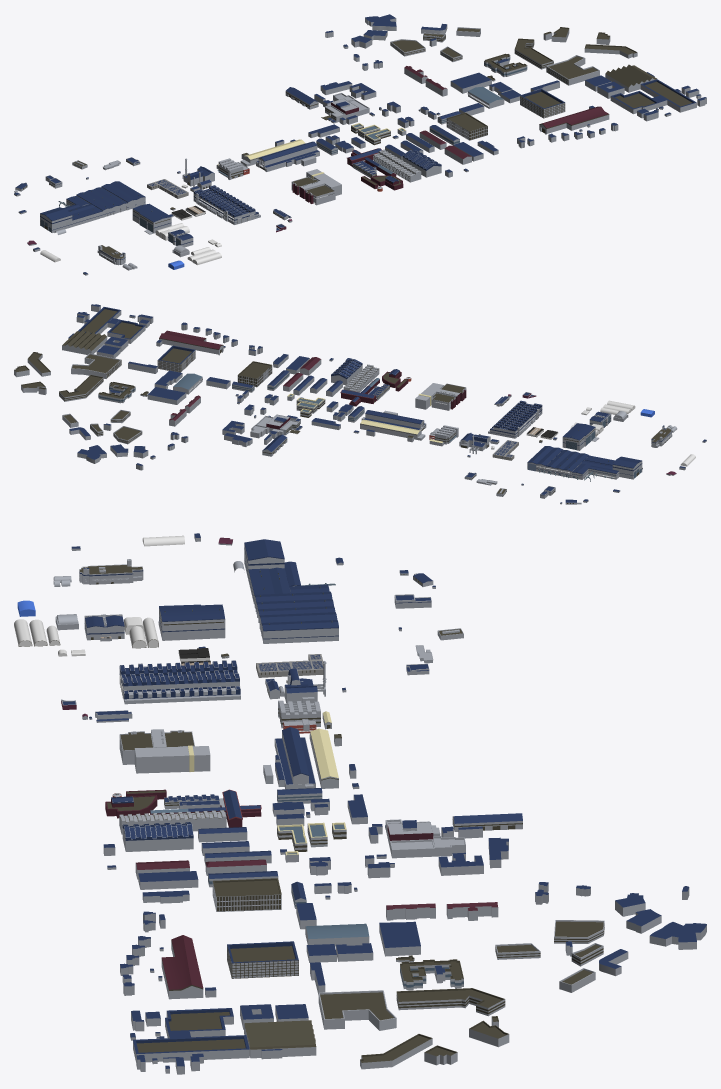
Rendered from Philly_Building.glb.
3 views of the same model, one above another, from view 1: azimuth 30°, elevation 25°; view 2: azimuth 150°, elevation 25°; view 3: azimuth 270°, elevation 25° (orthographic). The views are drawn at different scales.
Parts seen in each view (by area): view 1: Phiily_Building.001, Phiily_Building.017, Phiily_Building.003, Phiily_Building.004, Phiily_Building.008, Phiily_Building.040, Phiily_Building.042, Phiily_Building.039, Phiily_Building.009, Phiily_Building.016, Phiily_Building.002, Phiily_Building.018 (+13 smaller); view 2: Phiily_Building.001, Phiily_Building.017, Phiily_Building.003, Phiily_Building.004, Phiily_Building.042, Phiily_Building.040, Phiily_Building.009, Phiily_Building.016, Phiily_Building.039, Phiily_Building.002, Phiily_Building.008, Phiily_Building.018 (+13 smaller); view 3: Phiily_Building.001, Phiily_Building.003, Phiily_Building.017, Phiily_Building.004, Phiily_Building.016, Phiily_Building.042, Phiily_Building.039, Phiily_Building.009, Phiily_Building.002, Phiily_Building.018, Phiily_Building.105, Phiily_Building.040 (+19 smaller).
Part boxes in pixels (box(x1,y1,x2,y2)): Phiily_Building.001: box(40, 181, 145, 232); Phiily_Building.017: box(610, 79, 696, 114); Phiily_Building.003: box(193, 185, 260, 224); Phiily_Building.004: box(291, 169, 341, 205); Phiily_Building.008: box(256, 141, 319, 171); Phiily_Building.040: box(539, 106, 609, 134); Phiily_Building.042: box(546, 55, 599, 85); Phiily_Building.039: box(520, 89, 565, 118); Phiily_Building.009: box(321, 93, 369, 123); Phiily_Building.016: box(605, 64, 656, 92); Phiily_Building.002: box(132, 203, 171, 234); Phiily_Building.018: box(446, 112, 487, 140); Phiily_Building.001: box(527, 446, 642, 481); Phiily_Building.017: box(78, 307, 145, 343); Phiily_Building.003: box(488, 400, 542, 438); Phiily_Building.004: box(415, 383, 466, 410); Phiily_Building.042: box(71, 353, 121, 378); Phiily_Building.040: box(159, 330, 223, 355); Phiily_Building.009: box(250, 414, 302, 438); Phiily_Building.016: box(62, 330, 107, 354); Phiily_Building.039: box(157, 345, 195, 372); Phiily_Building.002: box(562, 423, 599, 450); Phiily_Building.008: box(361, 410, 426, 430); Phiily_Building.018: box(237, 361, 272, 387); Phiily_Building.001: box(244, 539, 338, 643); Phiily_Building.003: box(119, 660, 240, 704); Phiily_Building.017: box(133, 1008, 249, 1064); Phiily_Building.004: box(119, 729, 210, 773); Phiily_Building.016: box(244, 1020, 316, 1059); Phiily_Building.042: box(318, 990, 396, 1030); Phiily_Building.039: box(227, 941, 298, 978); Phiily_Building.009: box(385, 819, 465, 858); Phiily_Building.002: box(158, 604, 225, 640); Phiily_Building.018: box(212, 878, 281, 911); Phiily_Building.105: box(396, 988, 505, 1016); Phiily_Building.040: box(161, 935, 203, 999).
Size of the model in its own units: 2322 by 68.16 by 1265.
27 materials, 9 textured.
